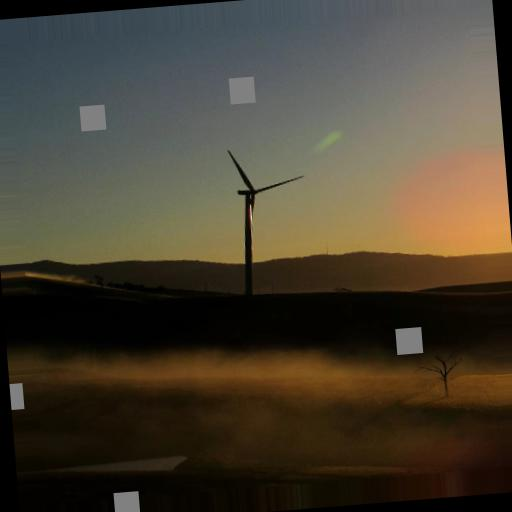wind turbine: (221, 150, 306, 289)
